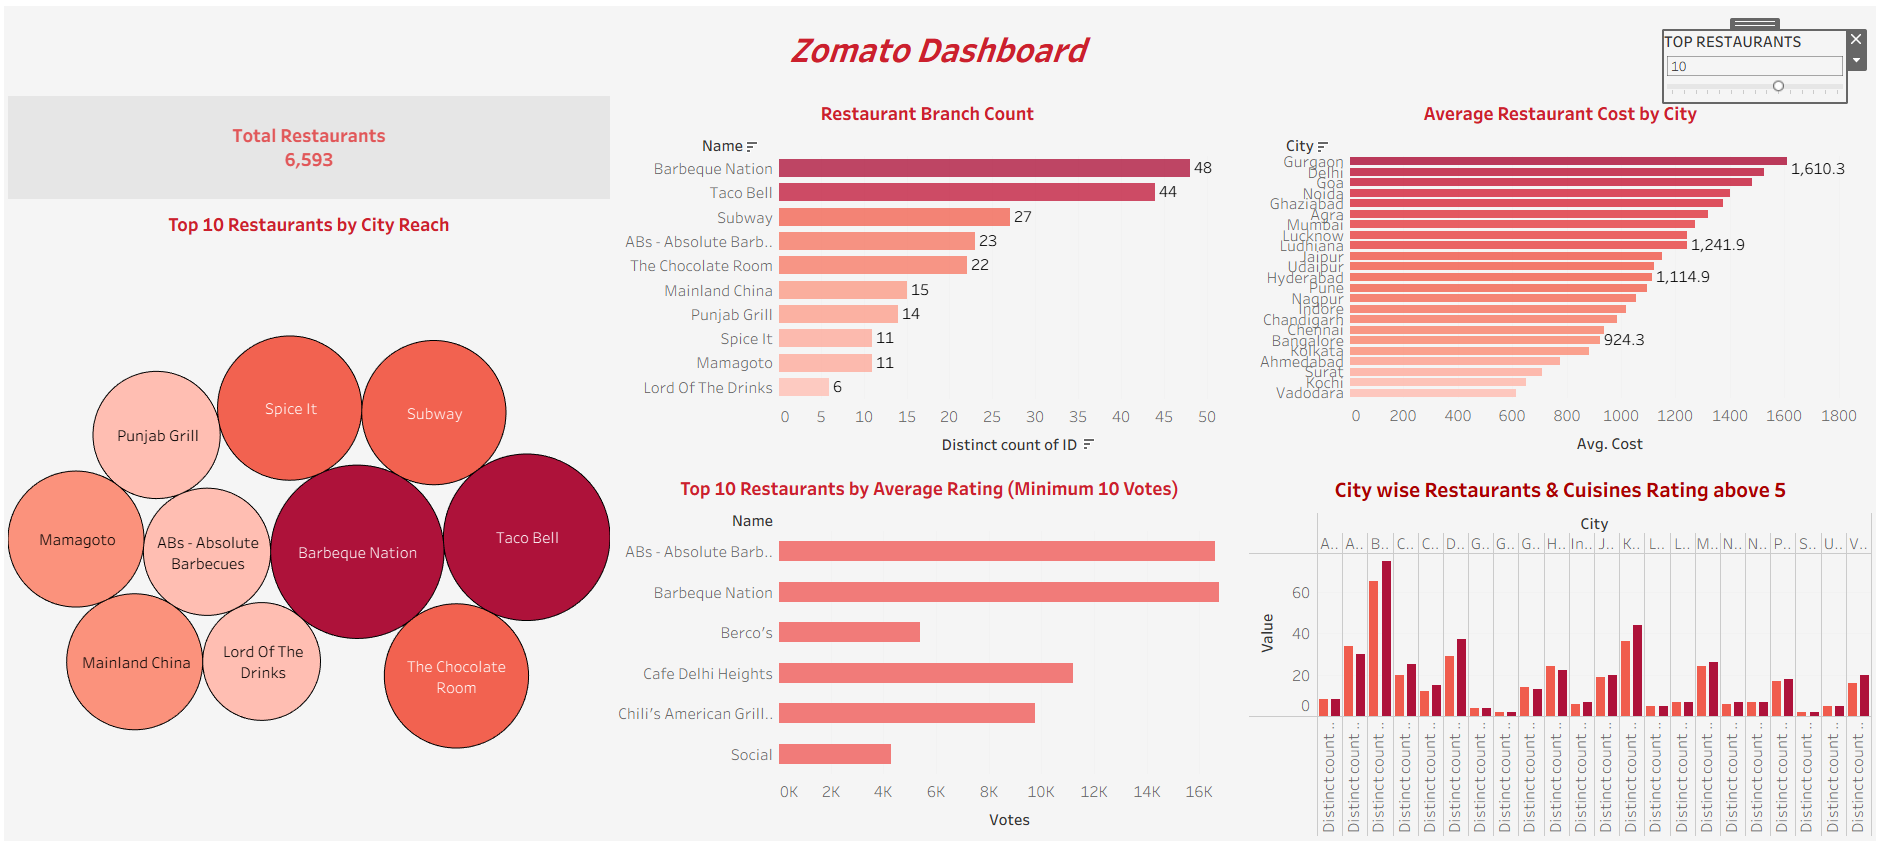

The dashboard page shown, as its layout file describes it:
{"tool":"tableau","page":{"name":"Dashboard 1","canvas":[1000,1000],"units":"permille","ordinal":0},"visuals":[{"type":"text","box":[4.8,9.4,990.3,101.1]},{"type":"parameter","param":"[Parameters].[Parameter 1]","box":[883.5,38.8,96.6,83.4]},{"type":"worksheet","title":"KPI1","mark":"Automatic","box":[4.8,110.5,322.8,130.4]},{"type":"worksheet","title":"Q5","mark":"Bar","rows":["Name"],"cols":["ID"],"box":[327.7,110.5,333.6,440]},{"type":"worksheet","title":"Q4","mark":"Automatic","rows":["City"],"cols":["Cost"],"box":[661.3,110.5,333.9,440]},{"type":"worksheet","title":"Q6","mark":"Circle","box":[4.8,241,322.8,749.6]},{"type":"worksheet","title":"Q7","mark":"Automatic","rows":["Name"],"cols":["Votes"],"box":[327.7,550.6,333.7,440]},{"type":"worksheet","title":"Q9","mark":"Automatic","cols":["City"],"box":[661.4,550.6,333.8,440]}]}

Visuals, with their boxes on the dashboard's canvas, which has no fixed pixel size, in thousandths of its width and height (x1, y1, x2, y2). These are canvas units, not pixel positions in the 1882x844 screenshot, which may show the page scaled, cropped or inside an application window:
text: box=[5, 9, 995, 110]
parameter: box=[884, 39, 980, 122]
"KPI1" worksheet: box=[5, 110, 328, 241]
"Q5" worksheet (Bar marks): box=[328, 110, 661, 550]
"Q4" worksheet: box=[661, 110, 995, 550]
"Q6" worksheet (Circle marks): box=[5, 241, 328, 991]
"Q7" worksheet: box=[328, 551, 661, 991]
"Q9" worksheet: box=[661, 551, 995, 991]
